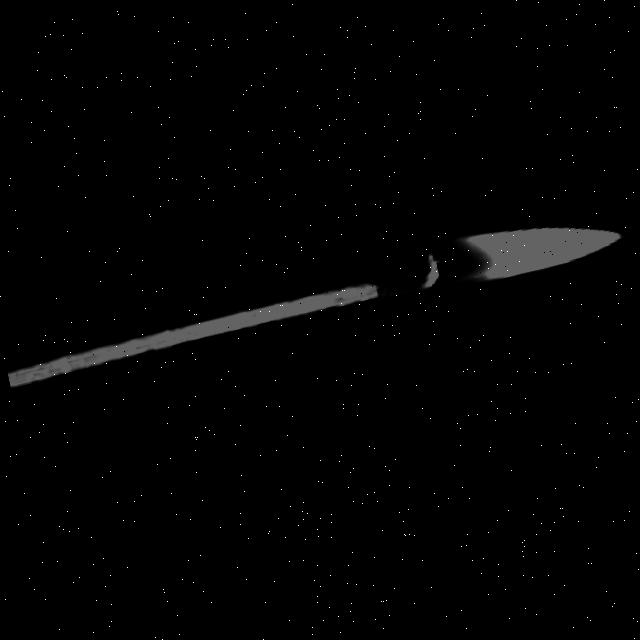Fire: (401, 192, 640, 319)
